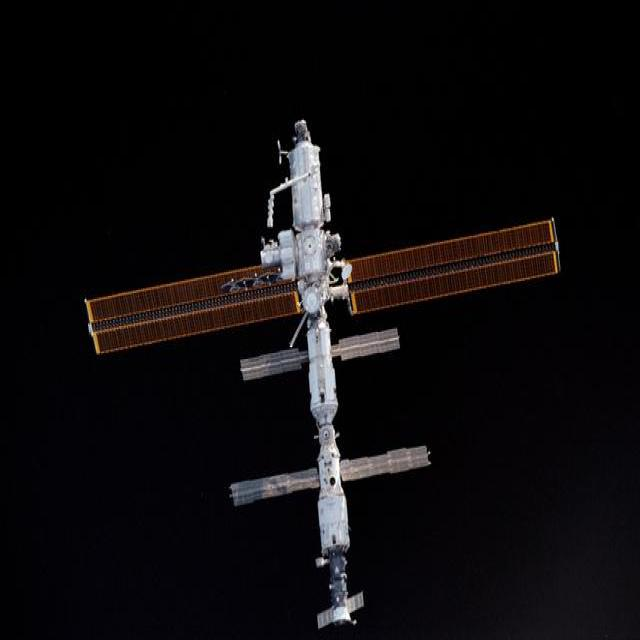satellite: (86, 120, 560, 628)
